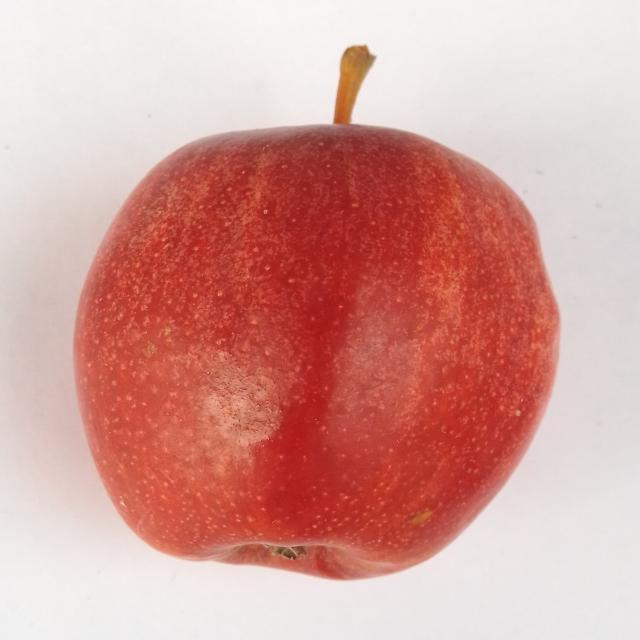Fresh Apple: (65, 113, 562, 582)
